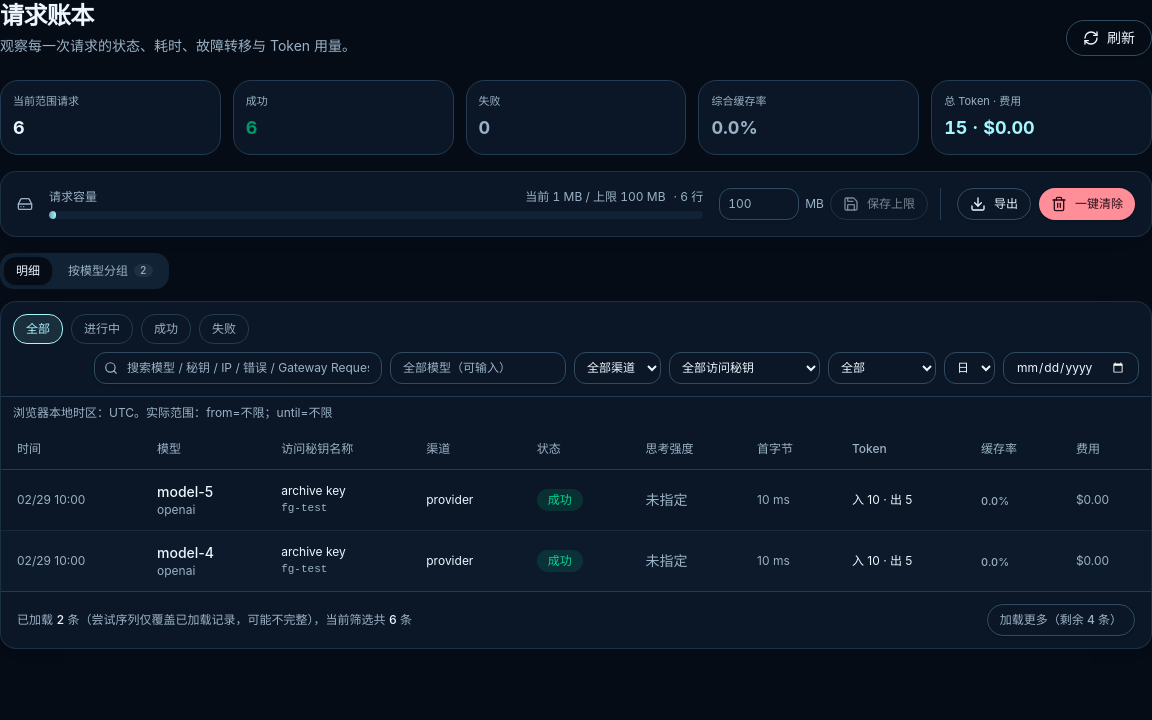
Scenario: Requests filters › normalizes the hour control to :00 and shows its actual bounds and local zone
Expected: the text "model-5" is shown, [157,482,213,500]
Select "时" in the dropdown named "精确时间粒度" at (970, 368), box [944,352,995,384]
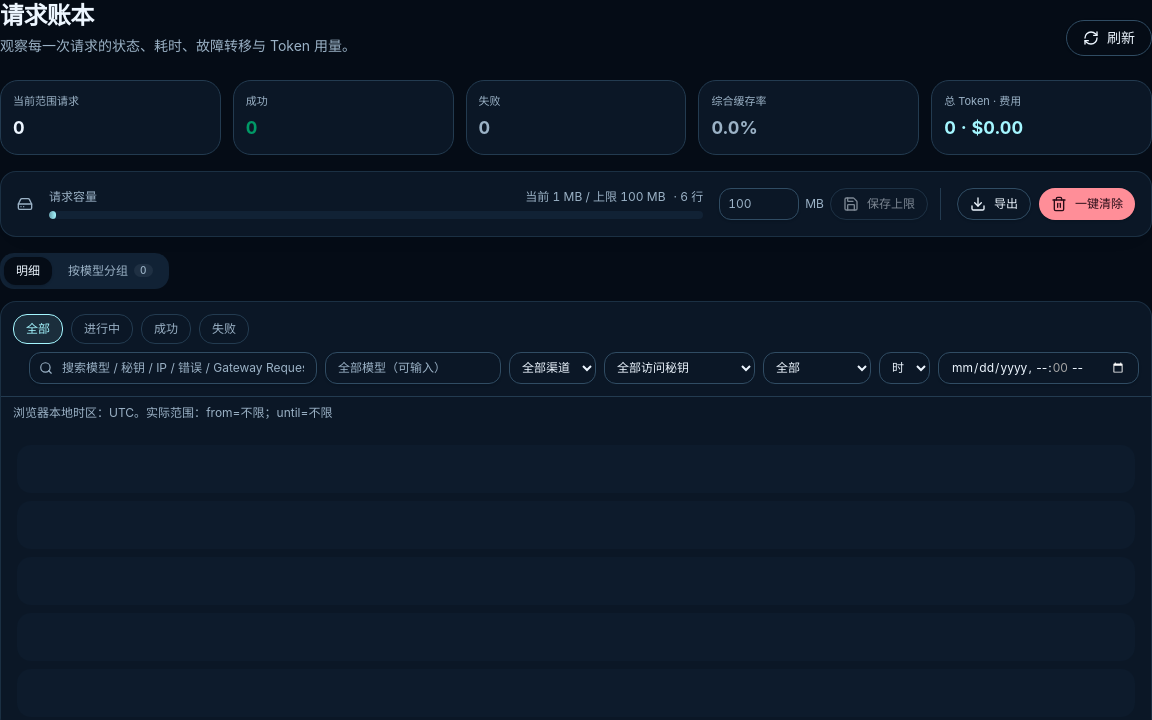
Type "2024-02-29T12:37" into the field named "精确时间" at (1038, 368), box [938,352,1139,384]
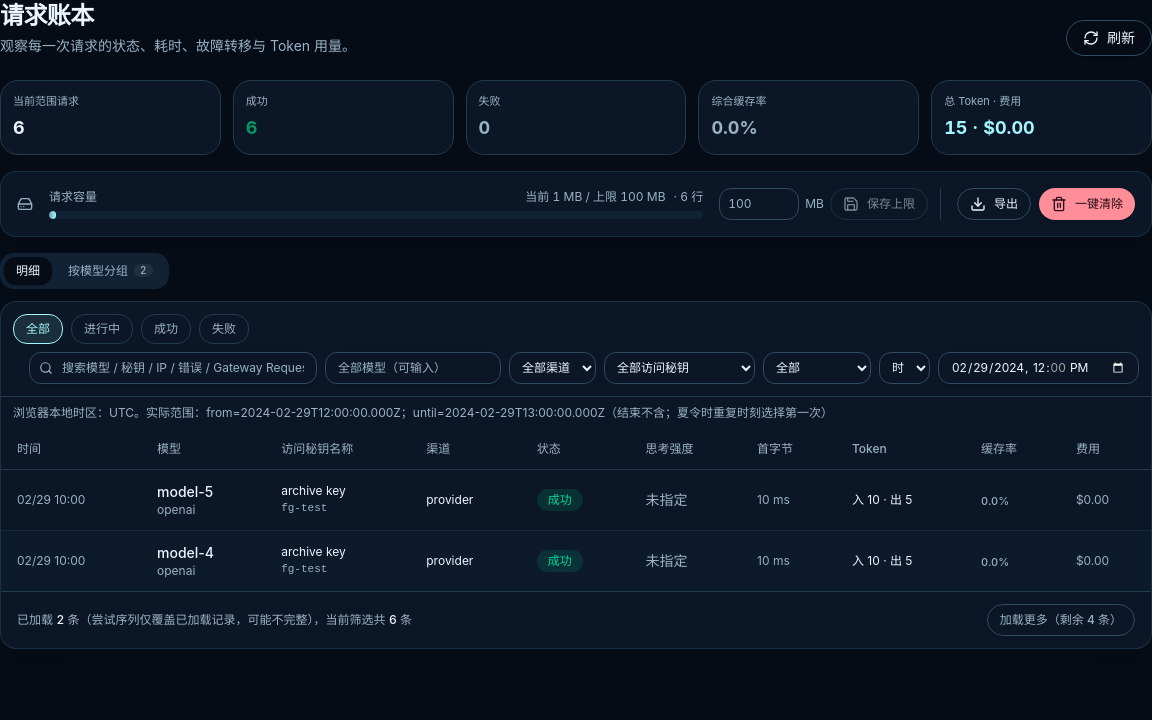
Expected: the text "浏览器本地时区" shows "UTC", [109,404,134,420]
Now the field named "精确时间" holds "2024-02-29T12:00", box [938,352,1139,384]
